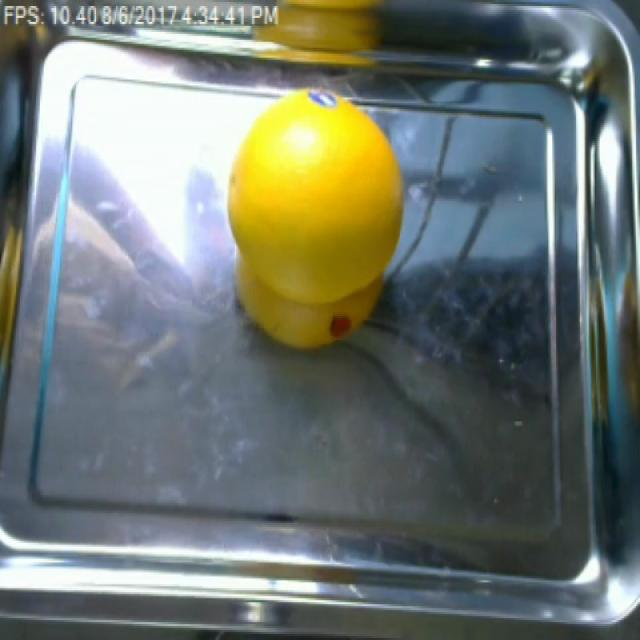Fruit: (220, 85, 407, 354), (241, 0, 414, 83)
